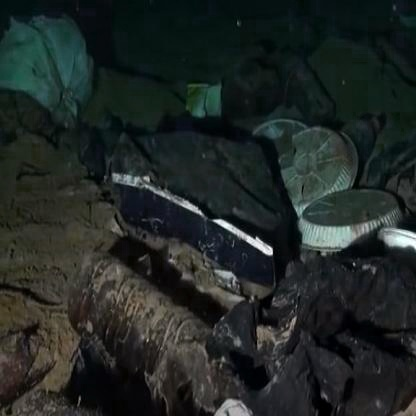pbottle: (71, 232, 214, 401)
plastic: (267, 92, 364, 210), (292, 162, 388, 255)
